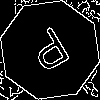P: (25, 25, 78, 82)
